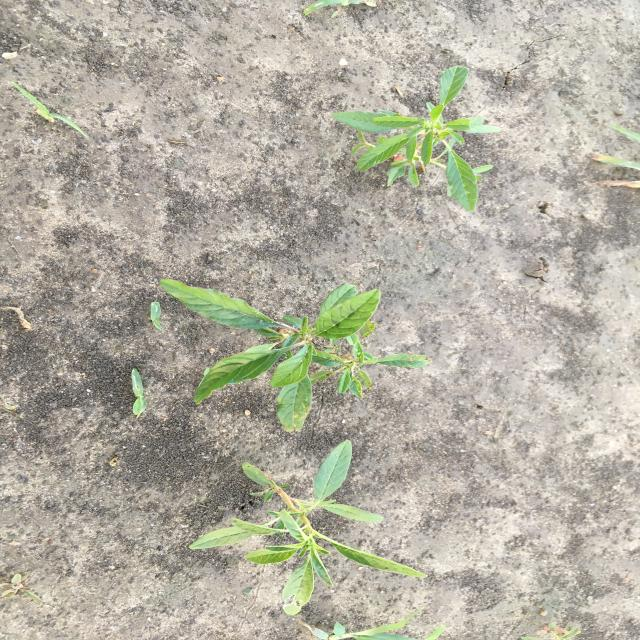Waterhemp: (187, 438, 430, 618), (157, 278, 435, 433), (328, 64, 504, 214)
